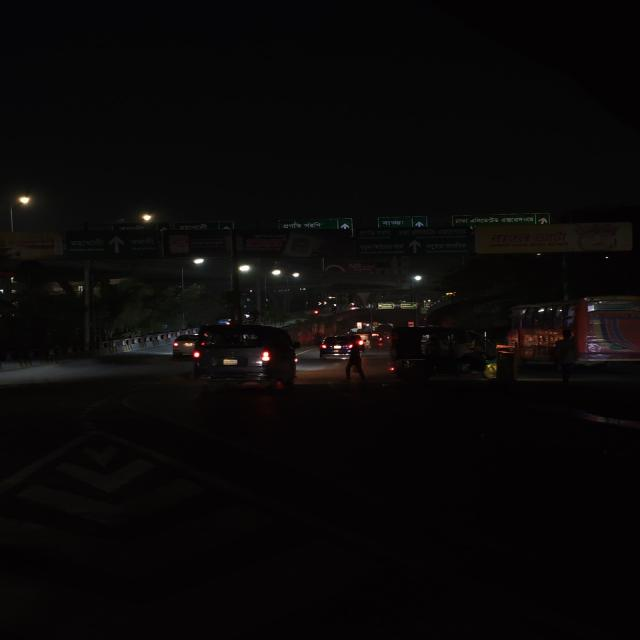bus: (509, 302, 640, 368)
car: (184, 325, 302, 389), (157, 328, 196, 356), (320, 336, 346, 360)
pedestrian: (552, 330, 580, 384), (344, 341, 367, 385)
rickshaw: (390, 326, 498, 388)
